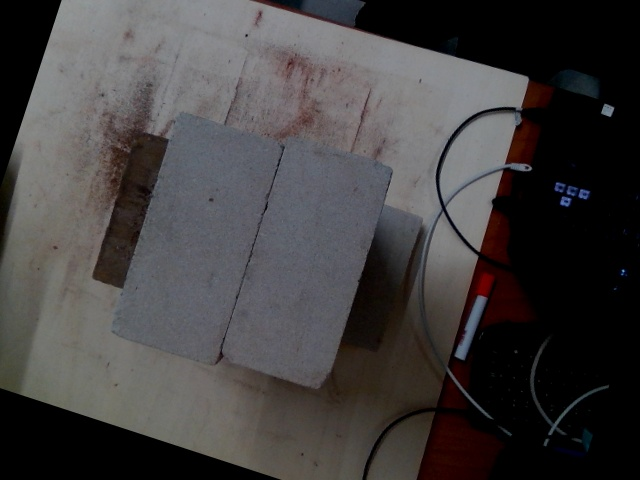brick: (219, 136, 392, 390), (108, 114, 281, 368)
